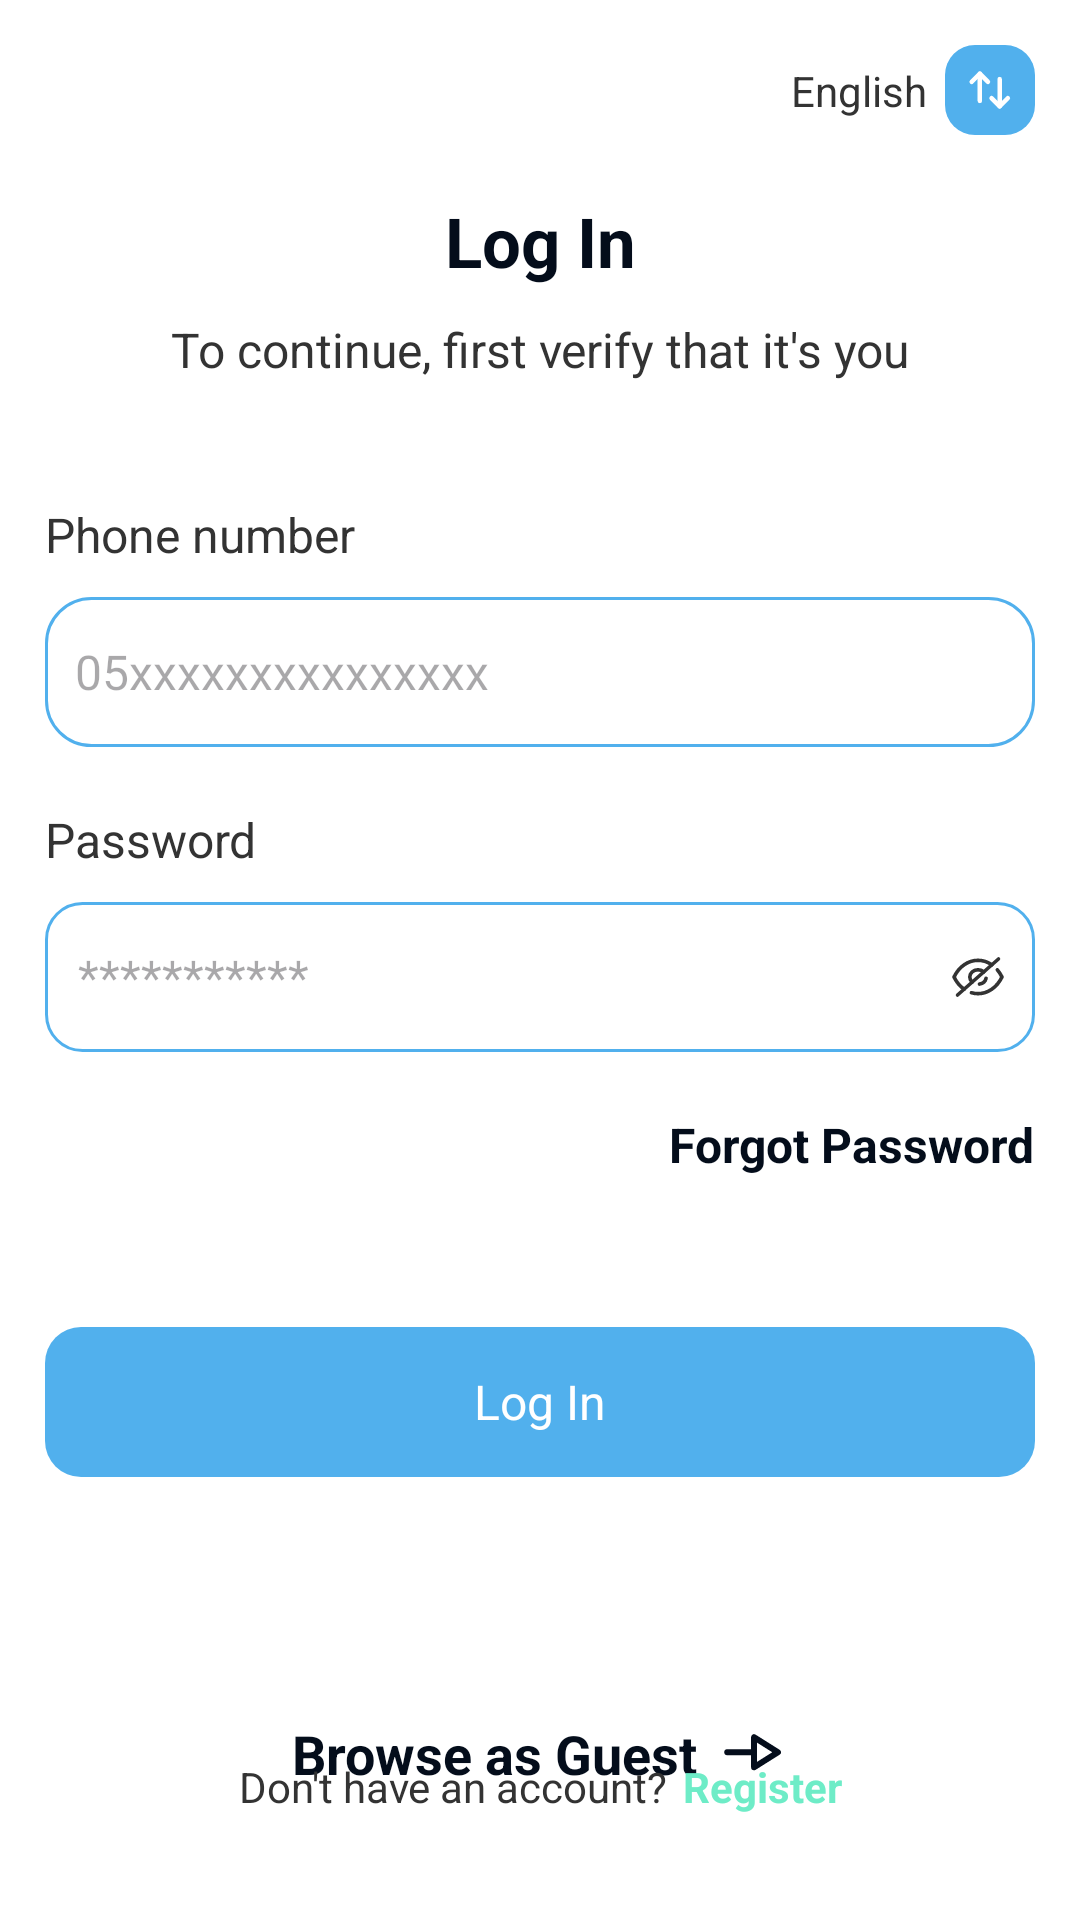

Locate icon controls on the screen. Image size 1080x1920, boxes as (x1, y1, x2, y2).
change language: (945, 45, 1035, 135)
hide: (952, 957, 1004, 997)
